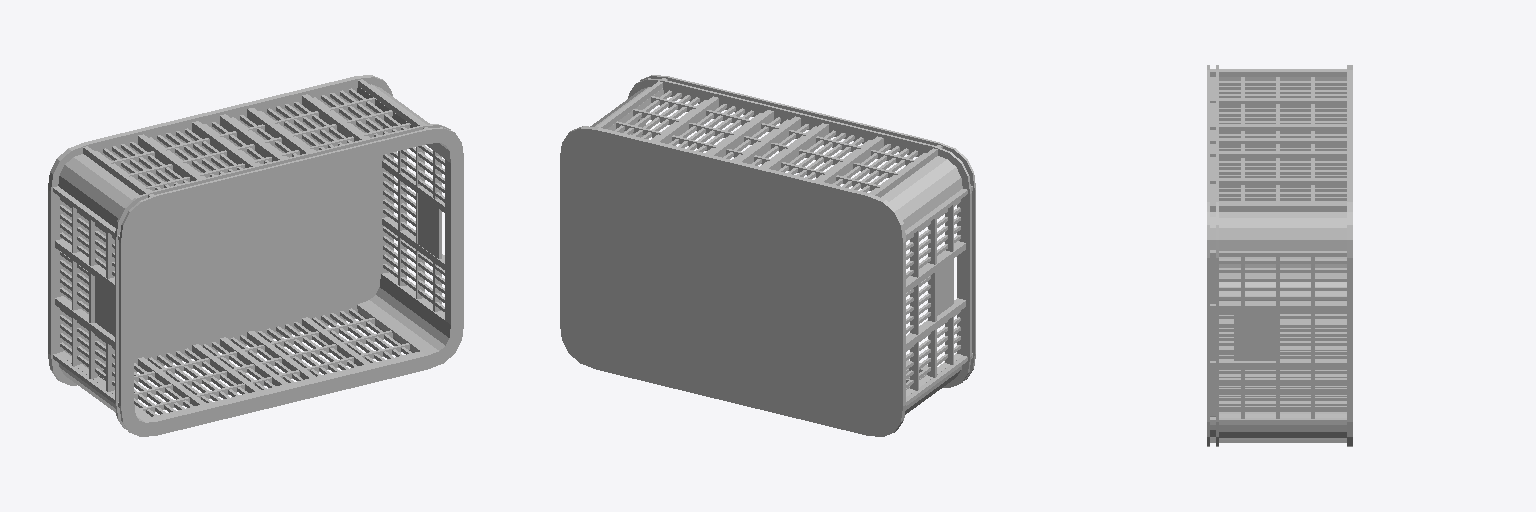
3 views of the same model, side by side, from view 1: azimuth 30°, elevation 25°; view 2: azimuth 150°, elevation 25°; view 3: azimuth 270°, elevation 25° (orthographic).
Visible parts, largest first — view 1: 14029_plastic_fruit_crate_SG; view 2: 14029_plastic_fruit_crate_SG; view 3: 14029_plastic_fruit_crate_SG.
Part boxes in pixels (x1,y1,x2,y2): 14029_plastic_fruit_crate_SG: (48,75,463,436); 14029_plastic_fruit_crate_SG: (560,75,975,436); 14029_plastic_fruit_crate_SG: (1207,65,1352,446).
Size of the model in its own units: 120 by 80 by 44.3.